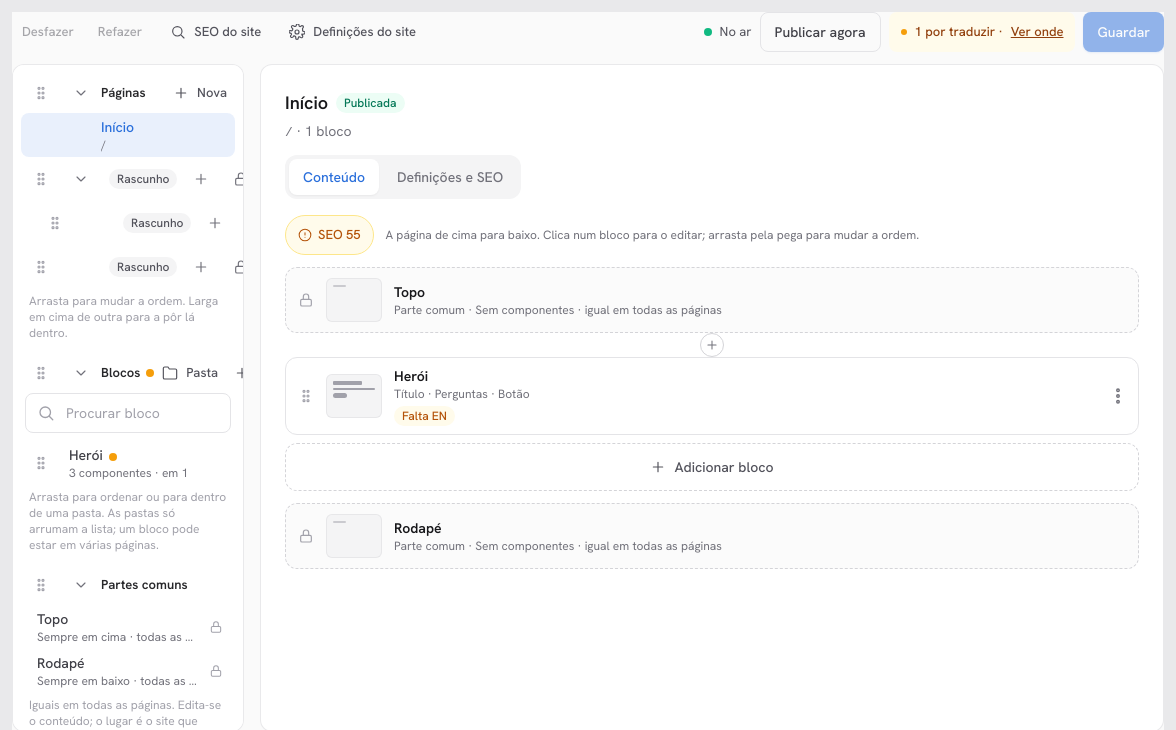
Test: Paginas · Definições e SEO › a home não se apaga e não tem endereço editável
This screenshot has width=1176, height=730.
What coordinates should you click on to do the following:
click the tab "Definições e SEO"
I would click on:
 (450, 177)
Its box is [383,159,517,195].
(page scrolled)
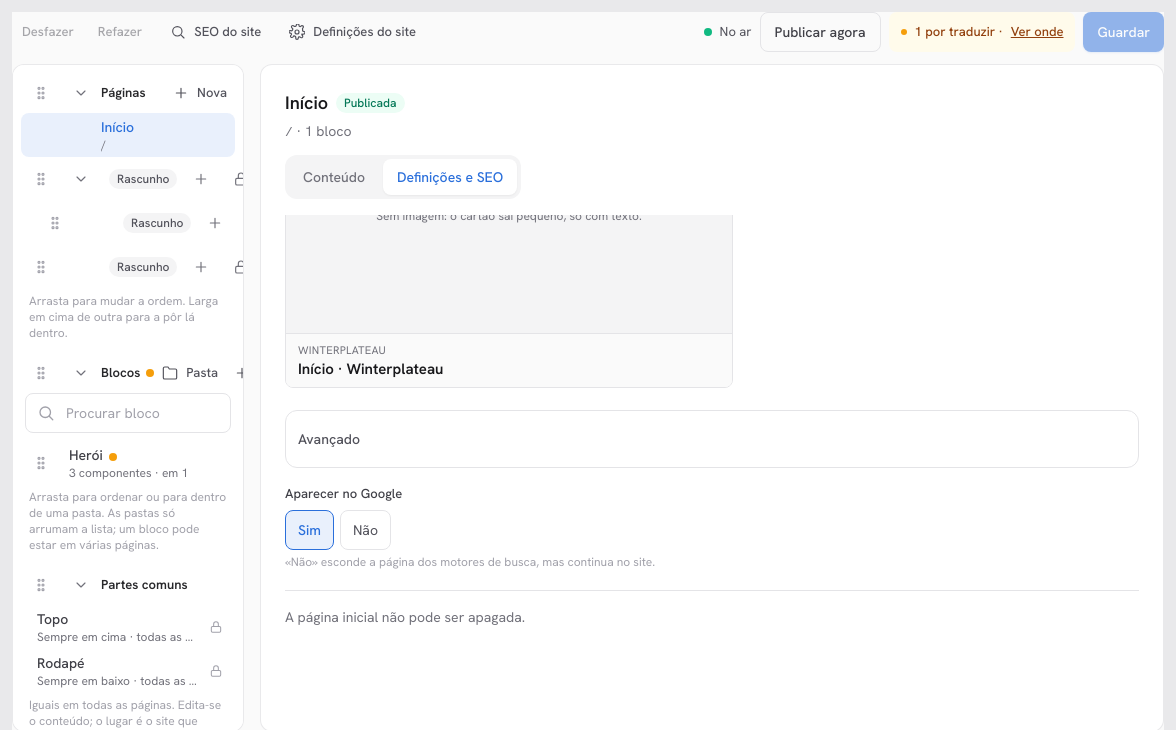
Expected: the text "A página inicial não pode ser apagada." is shown, [285,608,525,626]
